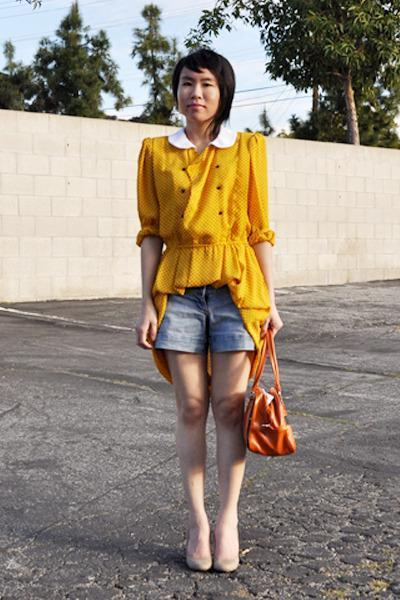Shorts: (148, 276, 258, 360)
dress: (132, 128, 277, 393)
